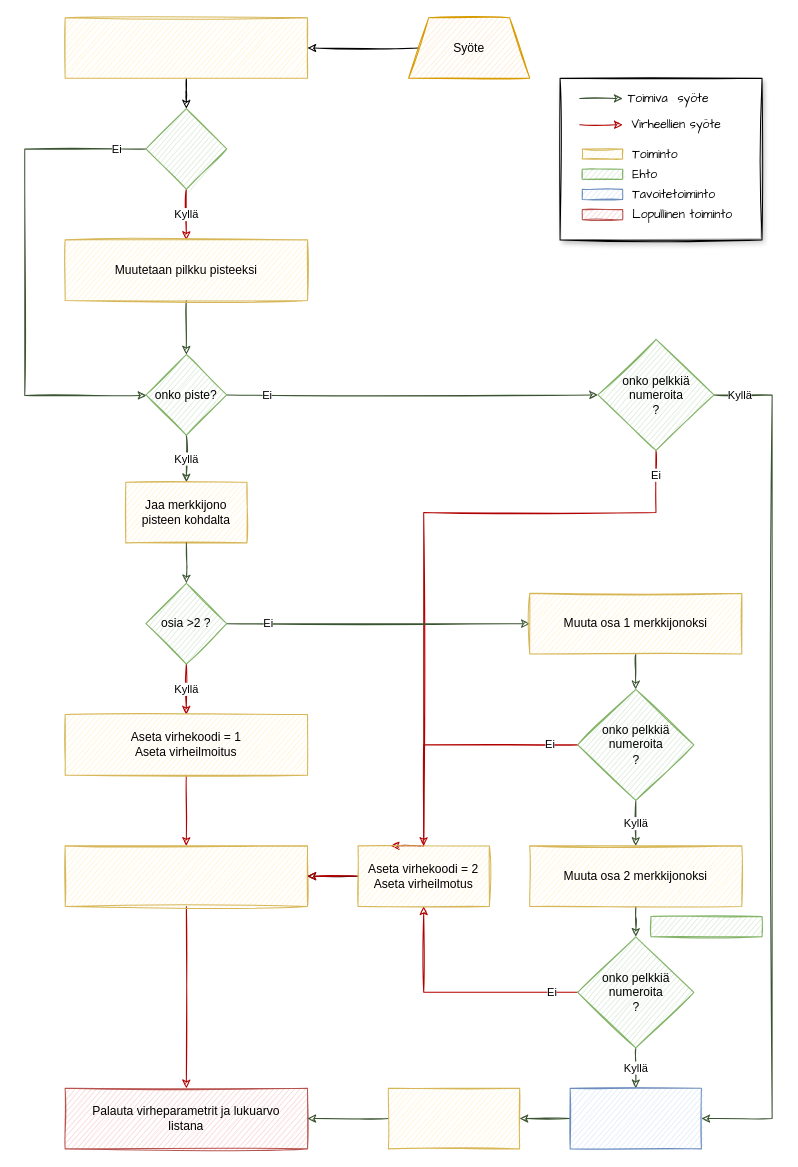
This 798x1167 diagram has some shape labels left out. The shapes that lost their labels are listed below. From the top down, each one's centre as x and y in pixels, then its label:
At pixel 186 47: "poistetaan ylimääräiset tyhjät".
At pixel 186 148: "onko pilkku?".
At pixel 186 875: "Anna lukuarvoksi 0".
At pixel 706 926: "osa.isnumeric()".
At pixel 453 1118: "Aseta virhekoodi = 0 Aseta virheilmotus".
At pixel 635 1118: "Muuta liukuluvuksi".
